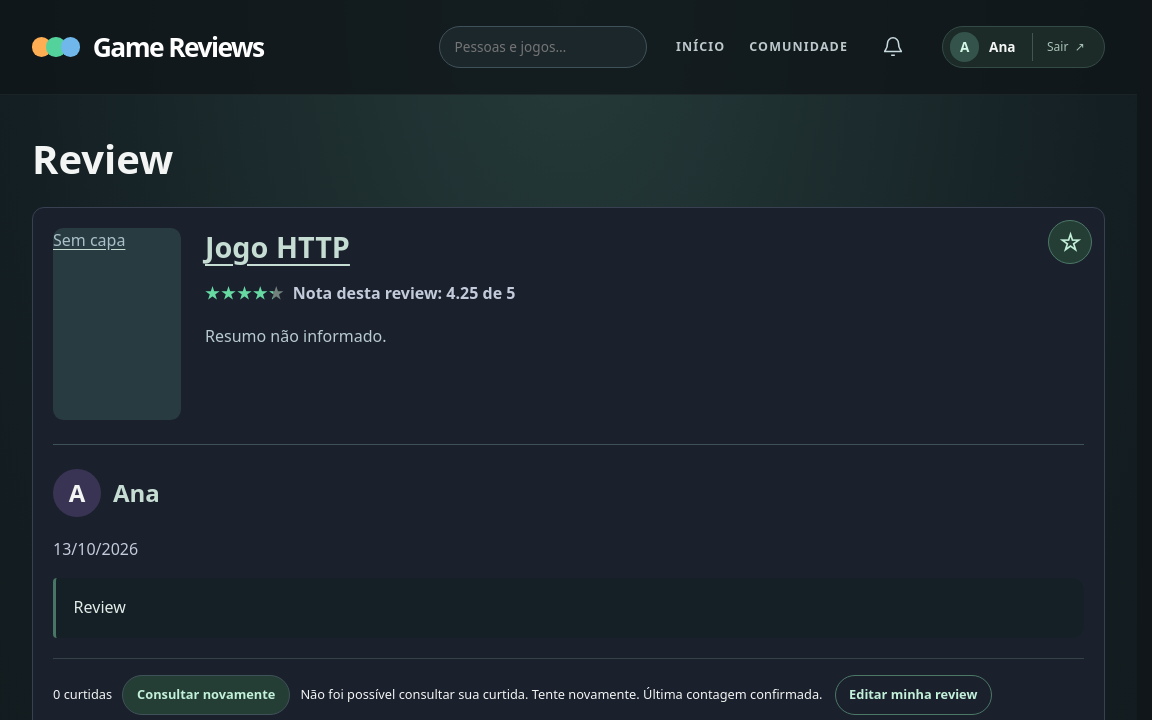
edição de detalhe carrega nota fracionada e envia texto vazio com PATCH único
Click the button "Editar minha review" at {"x": 913, "y": 695}, box x1=834 y1=675 x2=992 y2=715
(page scrolled)
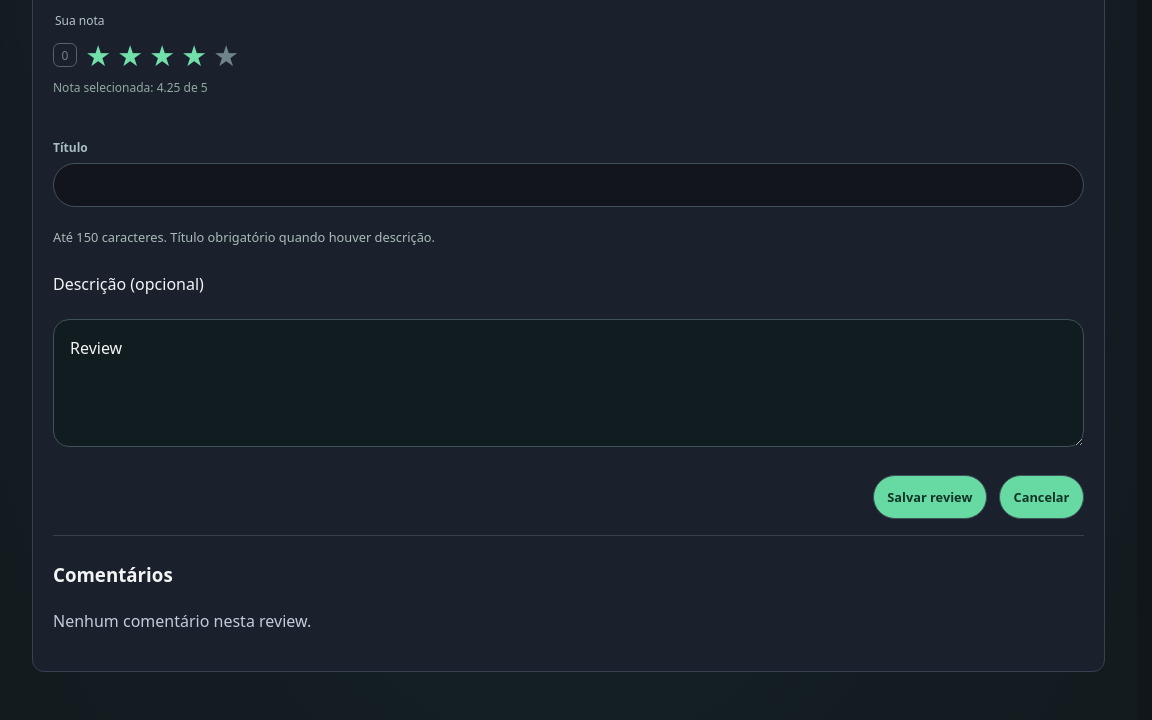
Expected: the text "Nota selecionada: 4.25 de 5" is shown, x1=53 y1=79 x2=208 y2=96
Clear the text box labelled "Descrição (opcional)" at {"x": 568, "y": 383}, box x1=53 y1=319 x2=1084 y2=447
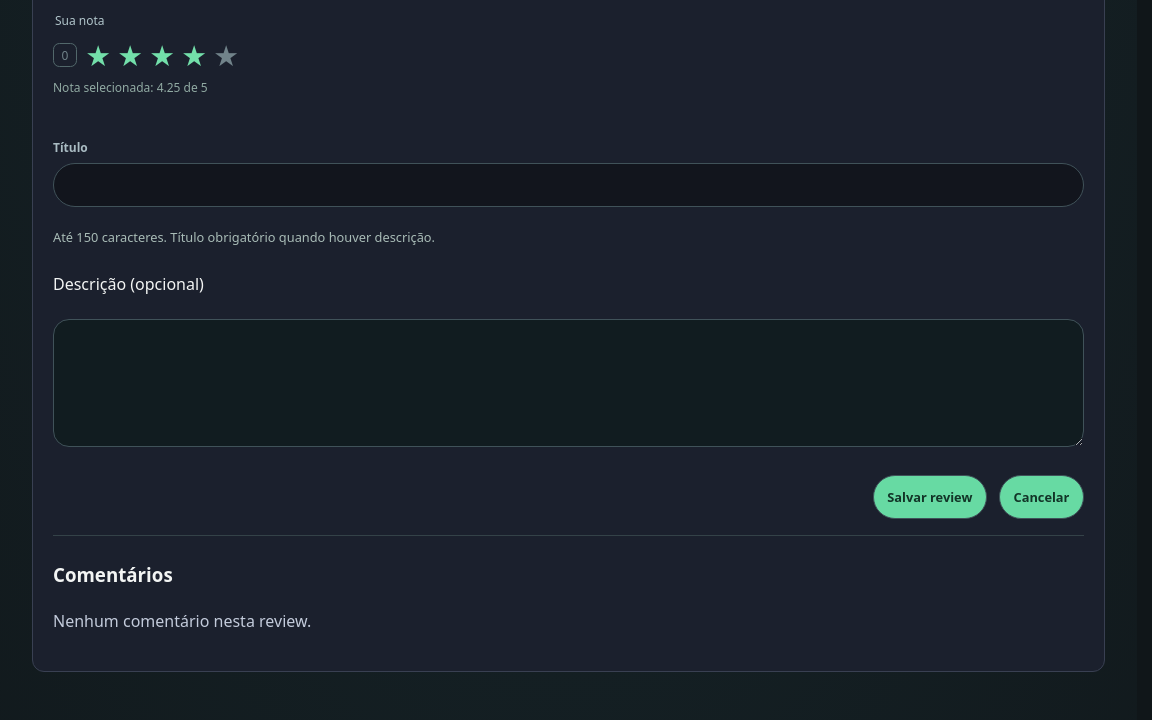
Submit the form named "Salvar review"
(page scrolled)
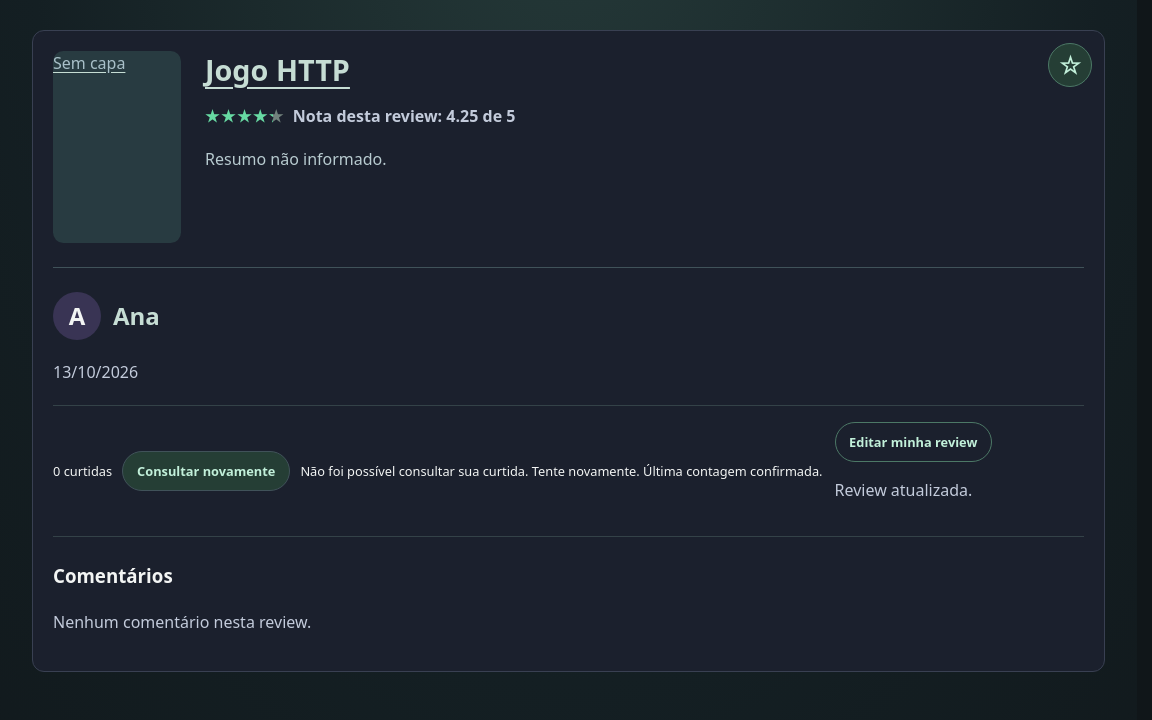
Expected: the link "Jogo HTTP" is shown, x1=205 y1=50 x2=350 y2=89
Expected: the text "Review atualizada." is shown, x1=834 y1=478 x2=992 y2=504
